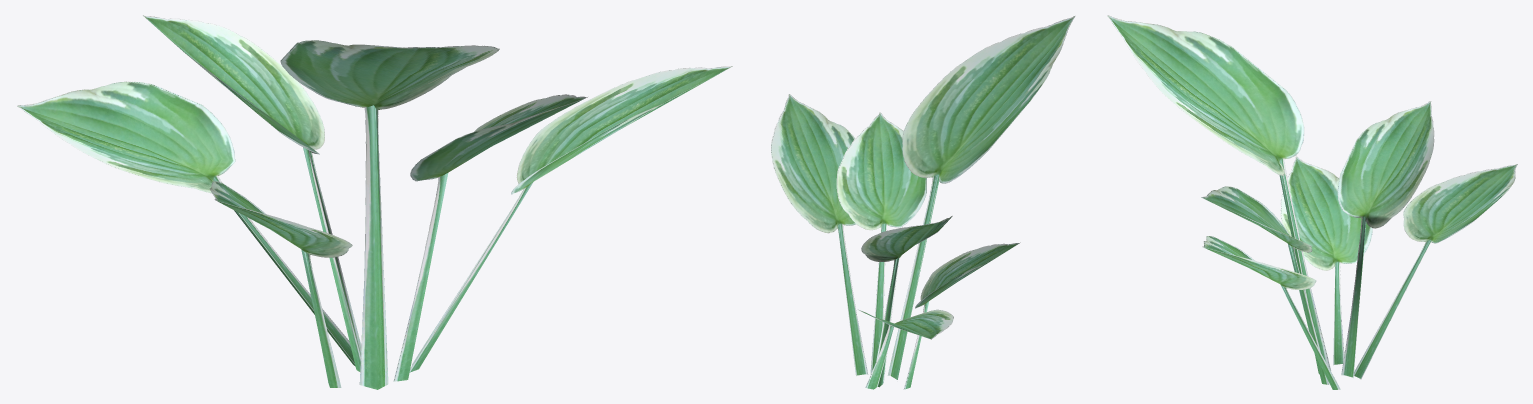
Rendered from plant_small_wg_03X.fbx.
3 renders of one model, left to right at view 1: azimuth 30°, elevation 25°; view 2: azimuth 150°, elevation 25°; view 3: azimuth 270°, elevation 25°, orthographic. The views are drawn at different scales.
Visible parts, largest first — view 1: plant_small_wg_03X; view 2: plant_small_wg_03X; view 3: plant_small_wg_03X.
Part boxes in pixels (x1,y1,x2,y2): plant_small_wg_03X: (17, 15, 732, 389); plant_small_wg_03X: (771, 16, 1075, 389); plant_small_wg_03X: (1107, 15, 1517, 389).
Size of the model in its own units: 41.3 by 40.91 by 47.87.
